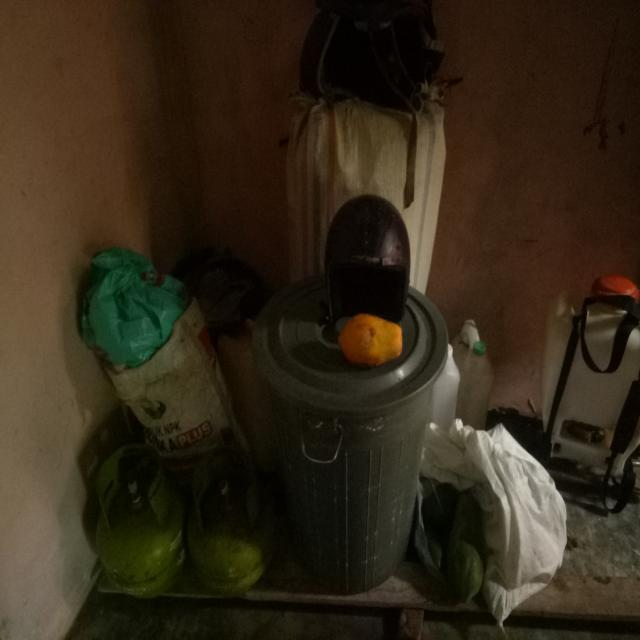Pepaya rippen: (338, 313, 407, 369)
